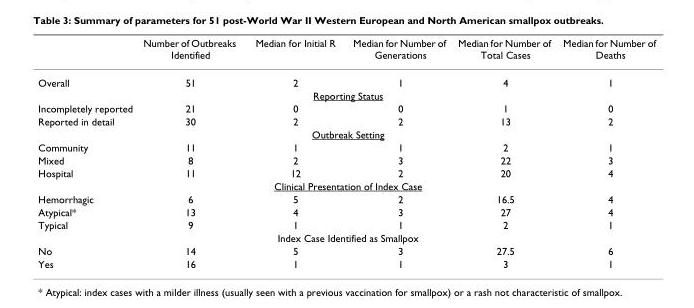table: (37, 36, 655, 269)
table column: (343, 36, 451, 269), (137, 36, 244, 269), (451, 36, 556, 269), (37, 36, 137, 269), (244, 36, 343, 269), (556, 36, 655, 269)
table column header: (37, 36, 655, 68)
table projected row header: (37, 88, 655, 101), (37, 127, 655, 140), (37, 179, 655, 192), (37, 231, 655, 243)
table row: (37, 36, 655, 68), (37, 68, 655, 88), (37, 88, 655, 101), (37, 101, 655, 114), (37, 114, 655, 127), (37, 127, 655, 140), (37, 140, 655, 153), (37, 153, 655, 166), (37, 166, 655, 179), (37, 179, 655, 192), (37, 192, 655, 205), (37, 205, 655, 218), (37, 218, 655, 231), (37, 243, 655, 256), (37, 256, 655, 269), (37, 231, 655, 243)
